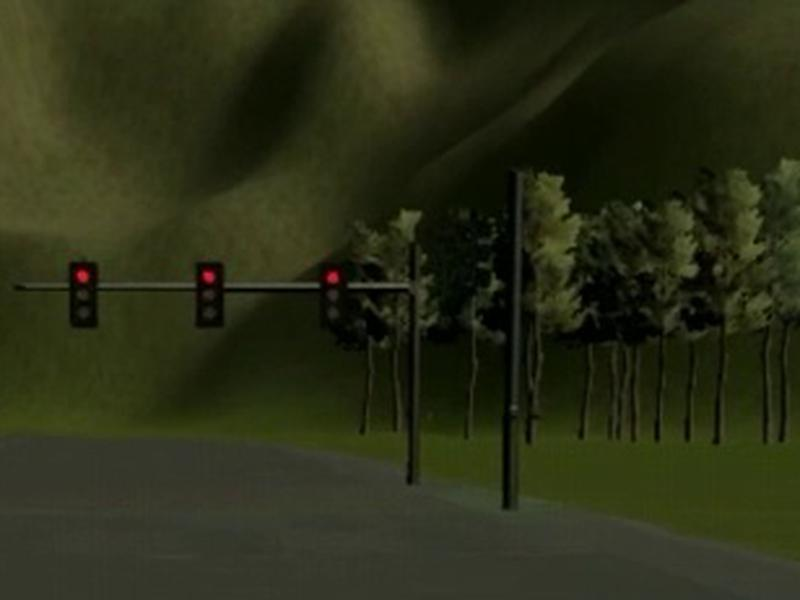Red: (321, 262, 348, 331), (70, 262, 98, 328), (196, 262, 224, 328)
